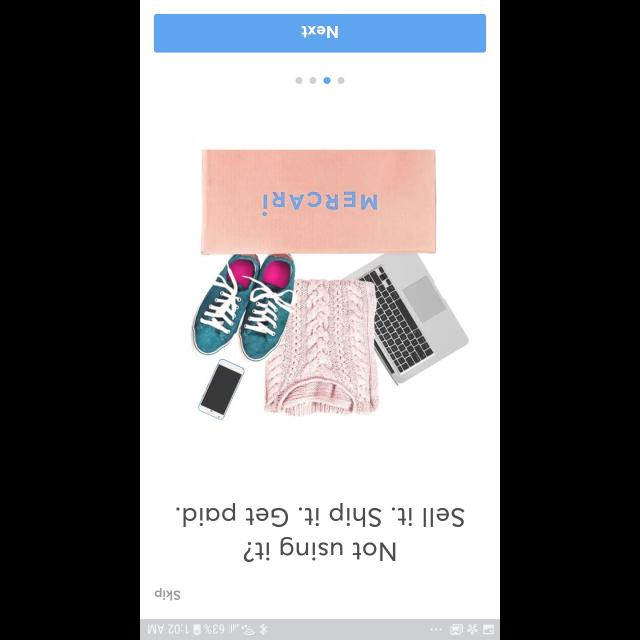image: (190, 150, 468, 420)
pageindicator: (296, 76, 344, 84)
text: (176, 502, 464, 562), (155, 588, 181, 600)
textbutton: (154, 14, 486, 52)
uppertaskbar: (140, 618, 500, 640)
